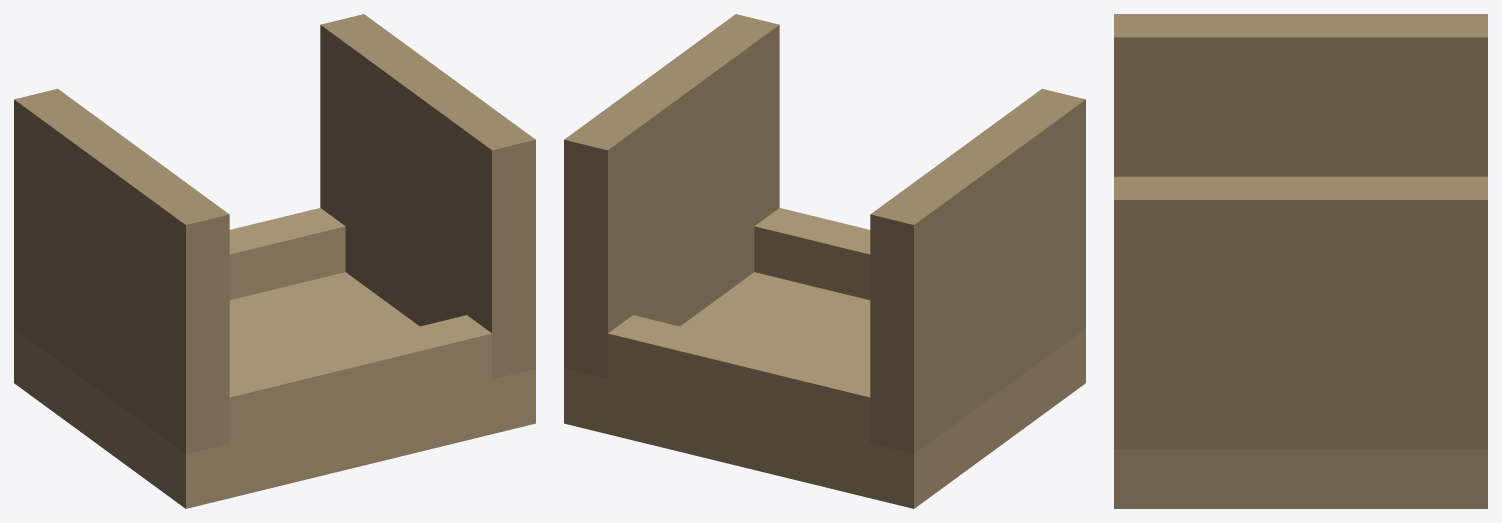
The model's file is basket.gltf.
3 views of the same model, side by side, from view 1: azimuth 30°, elevation 25°; view 2: azimuth 150°, elevation 25°; view 3: azimuth 270°, elevation 25° (orthographic). The views are drawn at different scales.
Visible parts, largest first — view 1: basket; view 2: basket; view 3: basket.
Boxes of the visible parts, box(x1,y1,x2,y2) form: basket: box(14, 14, 535, 508); basket: box(564, 14, 1085, 508); basket: box(1114, 14, 1487, 508).
Size of the model in its own units: 0.8 by 0.62 by 0.68.
